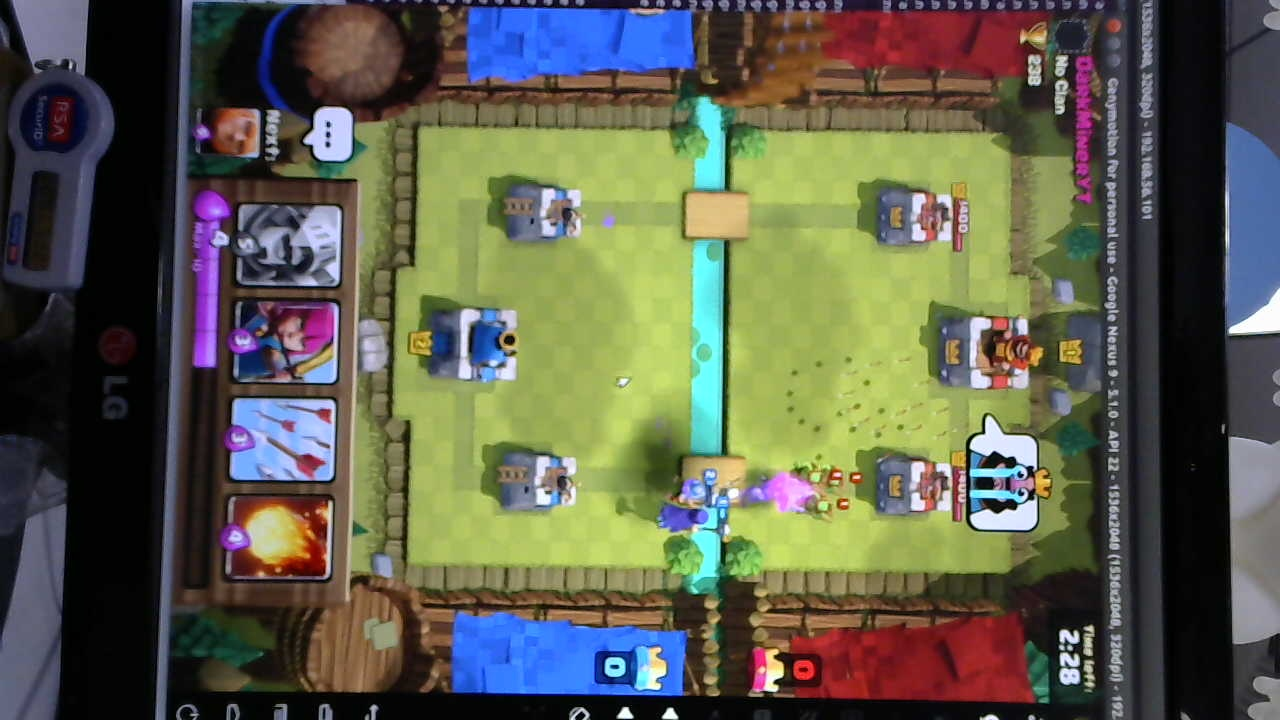arena: (495, 449, 579, 511), (503, 183, 585, 240)
earena: (874, 186, 958, 248), (881, 455, 955, 517)
eking: (933, 311, 1037, 392)
king: (421, 305, 517, 386)
musketeer: (670, 475, 706, 509)
speargoblins: (785, 457, 859, 523)
witch: (658, 500, 734, 535)
